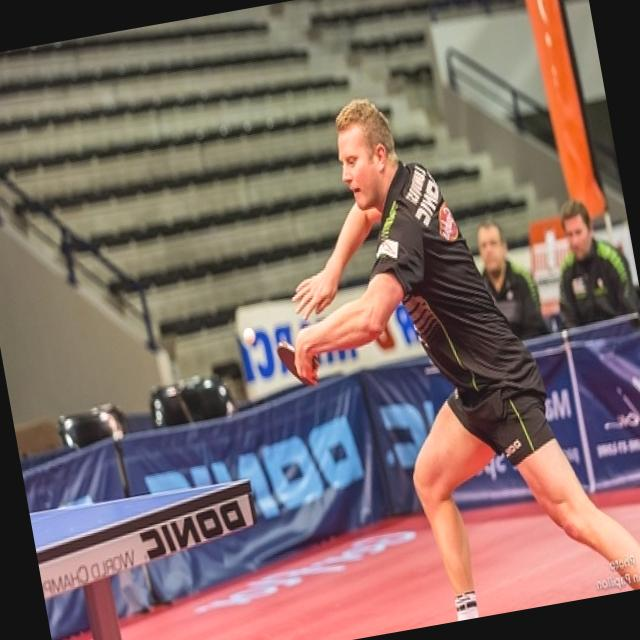TT Racket: (272, 330, 323, 394)
TT Table: (31, 478, 247, 554)
